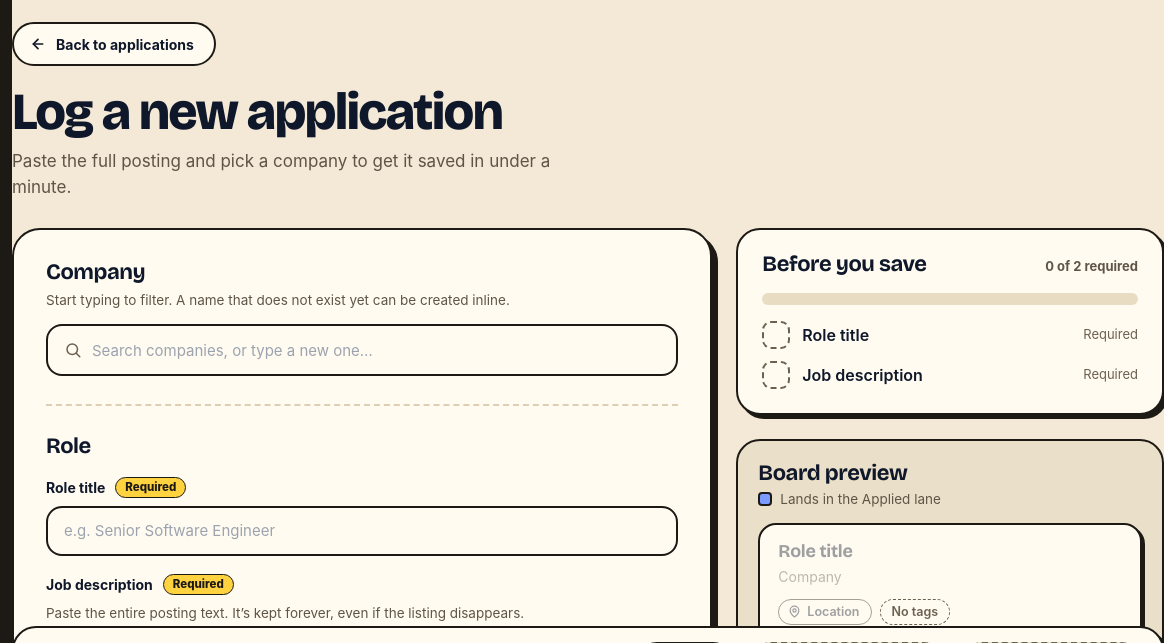
Test case: ApplicationFormPage quick add › shows an inline error and does not POST when the form is submitted directly
Check: the dropdown named "Company" is shown, box [92, 326, 660, 374]
Type "Staff Engineer" into the field labelled "Role title Required". click: (362, 531)
box: [64, 508, 660, 554]
(page scrolled)
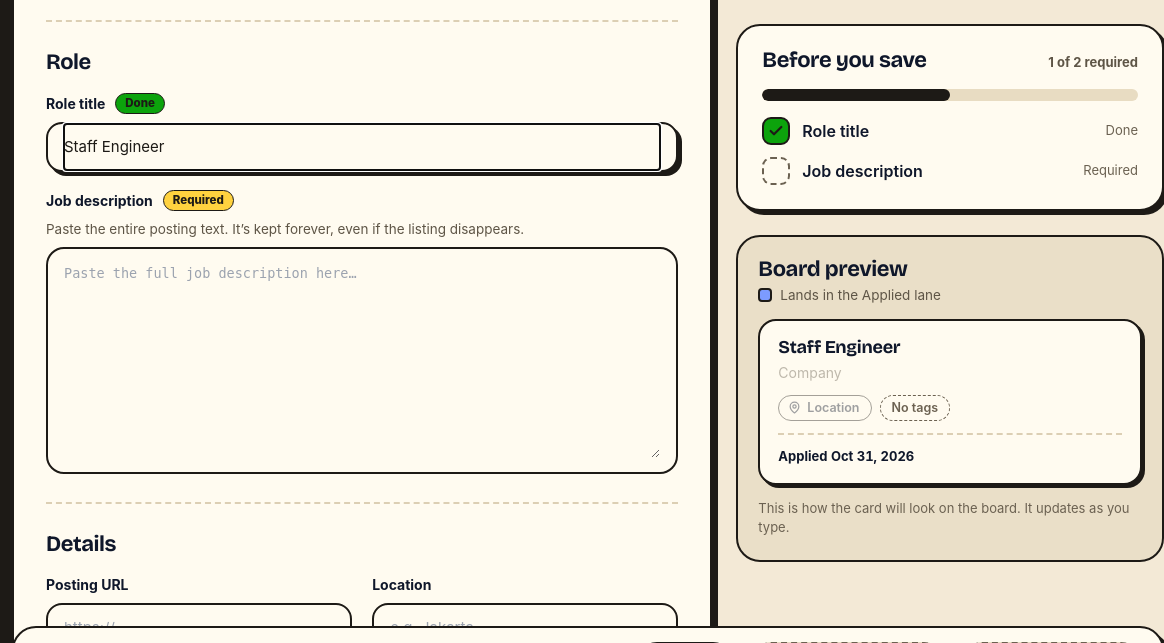
Type "We are hiring a staff engineer." into the text box labelled "Job description". click: (362, 361)
box: [64, 263, 660, 458]
(page scrolled)
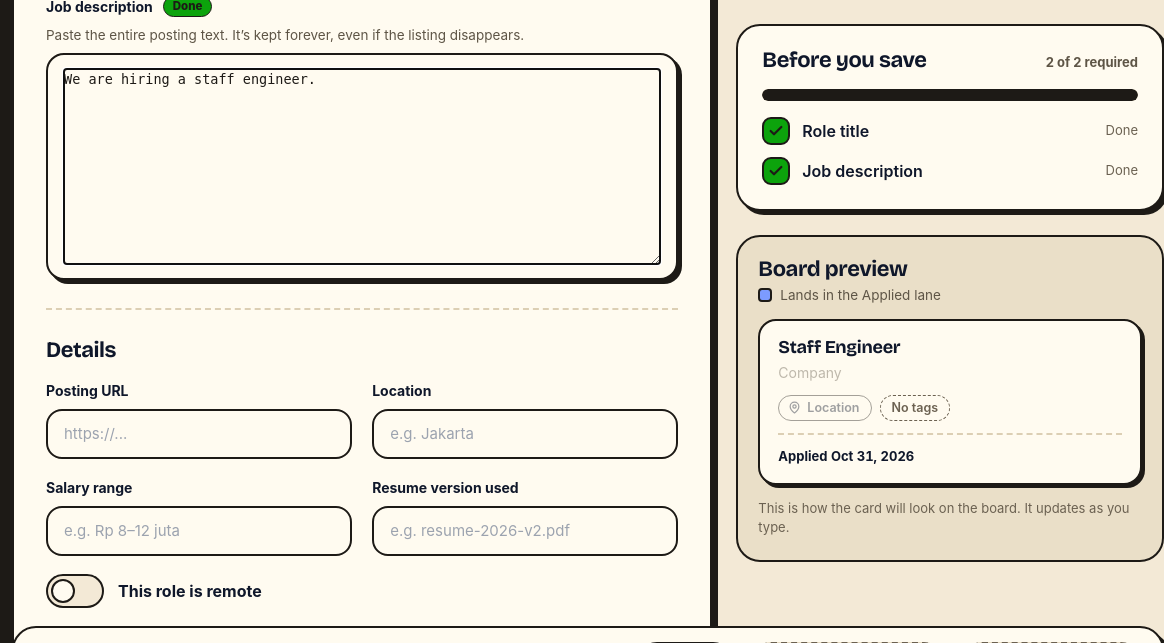
Submit the form named "save application"
(page scrolled)
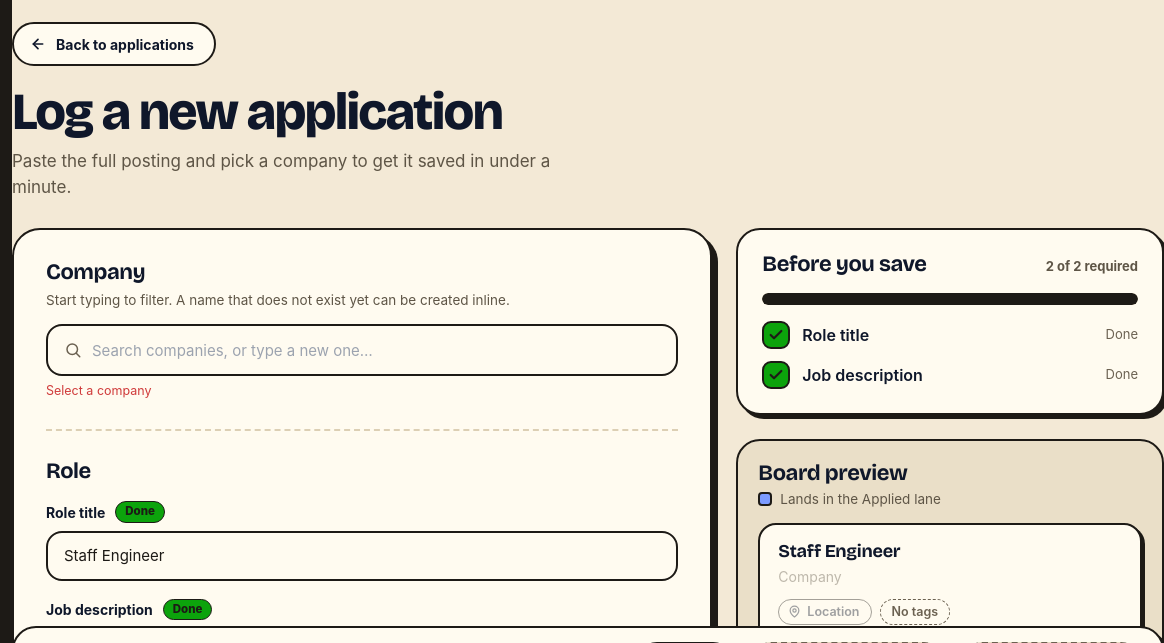
Check: the message reads "Select a company", box [46, 384, 152, 398]
